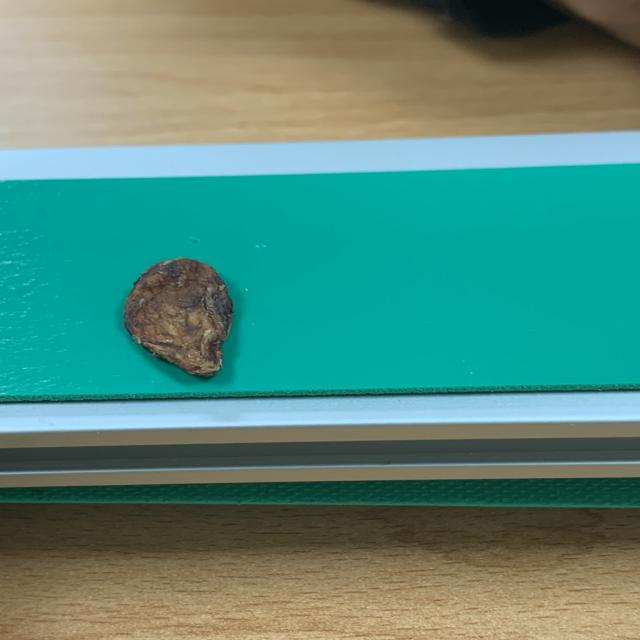Flat_cocoabeans: (33, 227, 349, 408)
